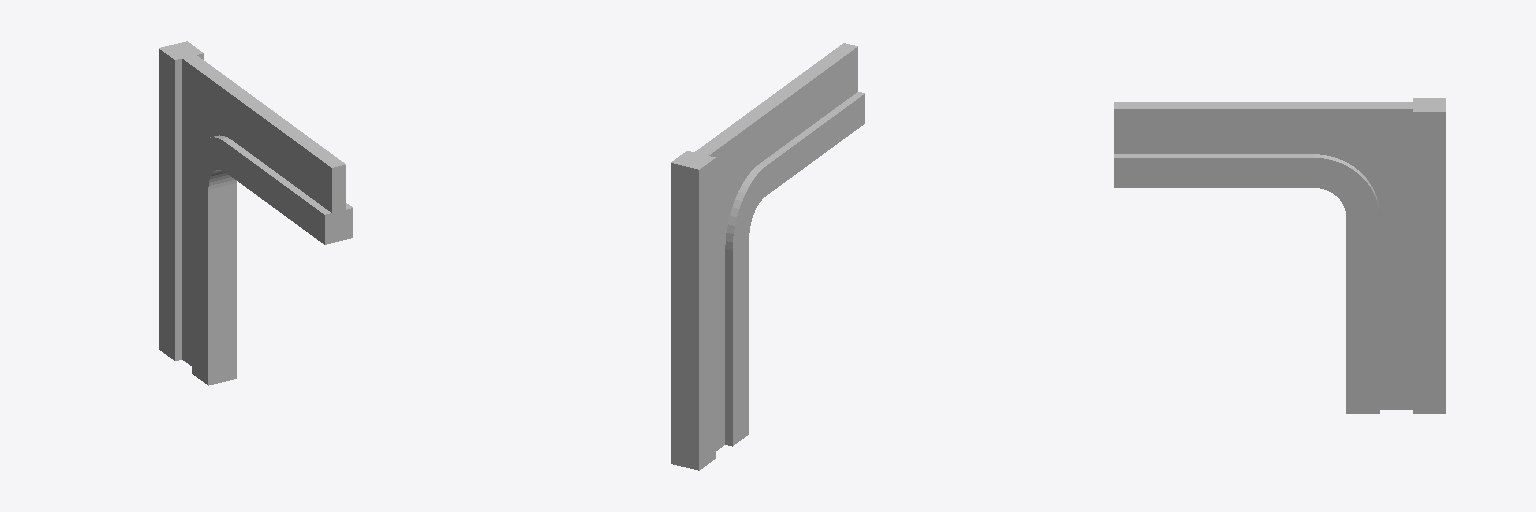
File: wall-wood-doorway-square-wide-curved.obj
3 renders of one model, left to right at view 1: azimuth 30°, elevation 25°; view 2: azimuth 150°, elevation 25°; view 3: azimuth 270°, elevation 25°, orthographic.
Visible parts, largest first — view 1: wall-wood-doorway-square-wide-curved; view 2: wall-wood-doorway-square-wide-curved; view 3: wall-wood-doorway-square-wide-curved.
Boxes of the visible parts, box(x1,y1,x2,y2) form: wall-wood-doorway-square-wide-curved: box(159, 41, 352, 385); wall-wood-doorway-square-wide-curved: box(671, 43, 864, 470); wall-wood-doorway-square-wide-curved: box(1114, 98, 1445, 413).
Bounding box in the file's own units: 0.1 × 1 × 1.